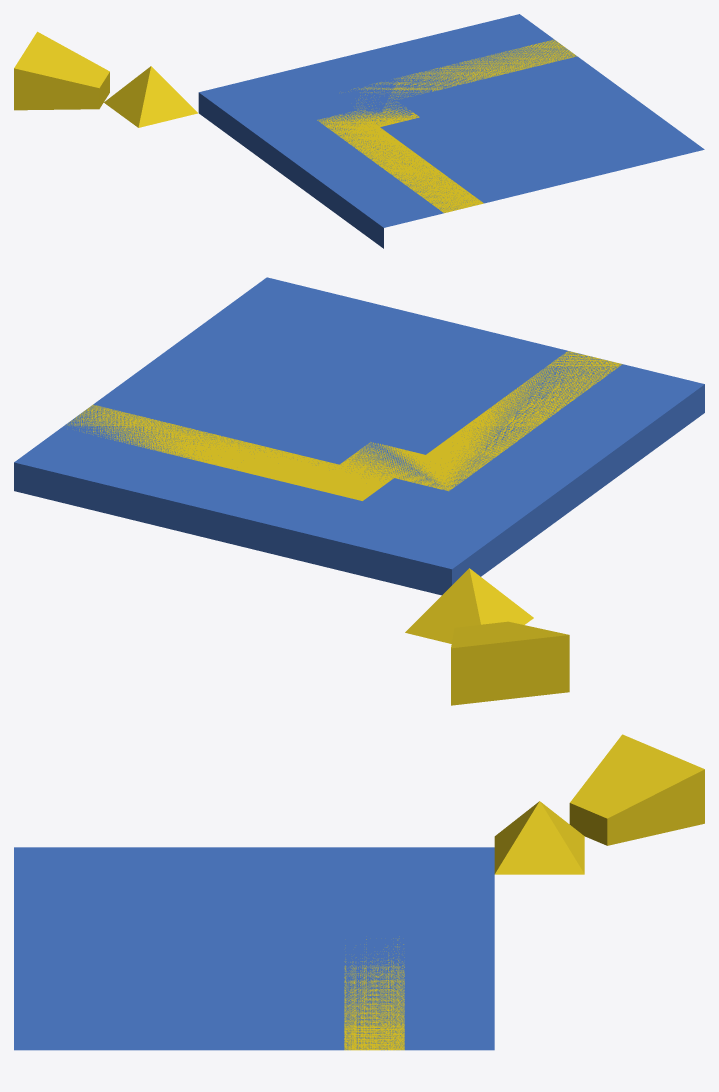
3 views of the same model, one above another, from view 1: azimuth 30°, elevation 25°; view 2: azimuth 150°, elevation 25°; view 3: azimuth 270°, elevation 25° (orthographic). The views are drawn at different scales.
Size of the model in its own units: 91 by 8 by 92.
Materials: 1 (1 with a texture image).
